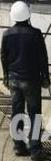boots: (29, 146, 48, 161), (13, 139, 29, 155)
gloves: (42, 76, 51, 88), (3, 74, 9, 87)
hard-hat: (10, 1, 31, 22)
